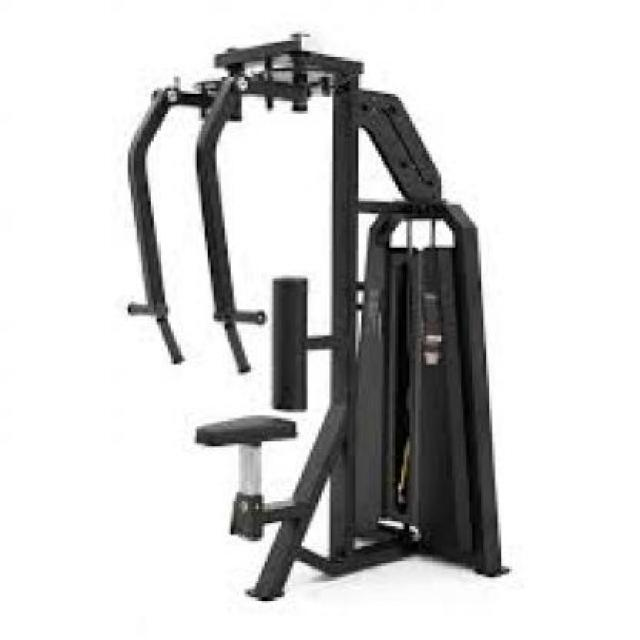chest fly machine: (77, 20, 551, 615)
